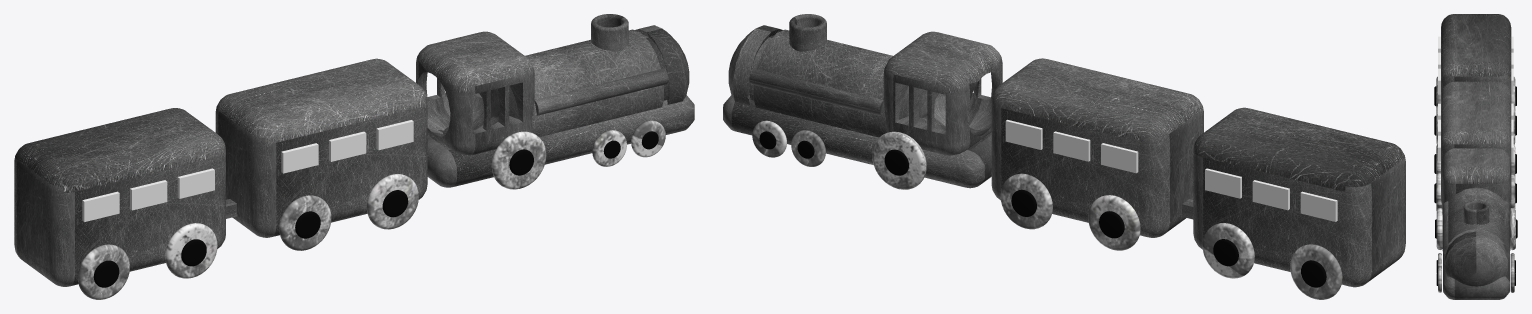
File: TchuTchu.fbx
3 views of the same model, side by side, from view 1: azimuth 30°, elevation 25°; view 2: azimuth 150°, elevation 25°; view 3: azimuth 270°, elevation 25° (orthographic). The views are drawn at different scales.
Parts seen in each view (by area): view 1: Cube_3, Cube_2, Cube_1_6, Oil_Tank_1, Cube_7, Cloner, Cloner_1, Oil_Tank_1_2, Cylinder_11, Oil_Tank, Cylinder_1_3, Cylinder (+12 smaller); view 2: Cube_3, Cube_2, Cube_1_6, Oil_Tank_1, Cube_7, Cloner, Cloner_1, Oil_Tank_2, Cylinder_12, Oil_Tank, Cylinder_4, Cylinder_2_2 (+12 smaller); view 3: Cube_2, Cube_3, Cube_1_6, Oil_Tank, Oil_Tank_1, Cube_7, Tube, Cloner, Cloner_1, Oil_Tank_1_2, Oil_Tank_2, Cylinder_11 (+11 smaller).
Part boxes in pixels (left/top/right/bottom): Cube_3: left=14, top=108, right=225, bottom=286; Cube_2: left=215, top=58, right=427, bottom=237; Cube_1_6: left=416, top=31, right=534, bottom=155; Oil_Tank_1: left=479, top=29, right=663, bottom=136; Cube_7: left=427, top=95, right=694, bottom=187; Cloner: left=281, top=120, right=413, bottom=173; Cloner_1: left=82, top=168, right=214, bottom=221; Oil_Tank_1_2: left=534, top=67, right=668, bottom=115; Cylinder_11: left=491, top=131, right=546, bottom=189; Oil_Tank: left=635, top=25, right=689, bottom=104; Cylinder_1_3: left=165, top=223, right=217, bottom=278; Cylinder: left=279, top=195, right=331, bottom=250; Cube_3: left=1193, top=107, right=1405, bottom=287; Cube_2: left=991, top=58, right=1203, bottom=237; Cube_1_6: left=883, top=31, right=1002, bottom=155; Oil_Tank_1: left=754, top=29, right=938, bottom=137; Cube_7: left=723, top=95, right=991, bottom=188; Cloner: left=1005, top=119, right=1138, bottom=173; Cloner_1: left=1205, top=168, right=1337, bottom=221; Oil_Tank_2: left=749, top=67, right=883, bottom=115; Cylinder_12: left=872, top=131, right=926, bottom=189; Oil_Tank: left=728, top=25, right=782, bottom=104; Cylinder_4: left=1290, top=244, right=1342, bottom=299; Cylinder_2_2: left=1088, top=195, right=1140, bottom=250; Cube_2: left=1441, top=81, right=1511, bottom=204; Cube_3: left=1441, top=14, right=1511, bottom=94; Cube_1_6: left=1442, top=148, right=1510, bottom=214; Oil_Tank: left=1445, top=231, right=1507, bottom=286; Oil_Tank_1: left=1444, top=187, right=1508, bottom=264; Cube_7: left=1443, top=252, right=1509, bottom=299; Tube: left=1463, top=200, right=1489, bottom=224; Cloner: left=1438, top=103, right=1513, bottom=161; Cloner_1: left=1438, top=36, right=1513, bottom=94; Oil_Tank_1_2: left=1442, top=201, right=1449, bottom=254; Oil_Tank_2: left=1503, top=201, right=1510, bottom=254; Cylinder_11: left=1436, top=208, right=1442, bottom=249.
Bounding box in the file's own units: 2584 × 501 × 415.
